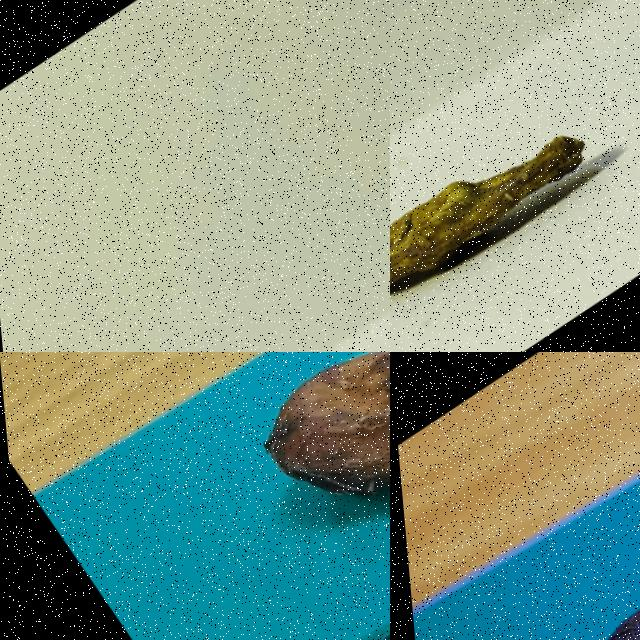Fine_cocoabeans: (137, 352, 389, 639), (391, 366, 639, 639)
Flat_cocoabeans: (390, 42, 639, 351), (191, 192, 389, 351)
